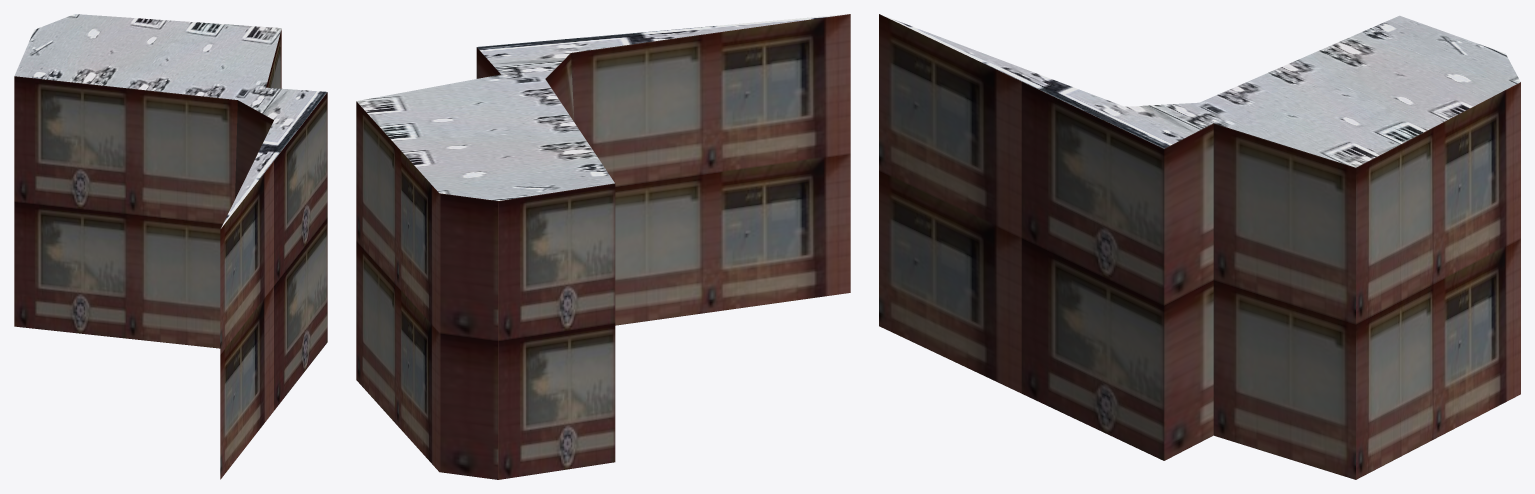
Rendered from ResTex__2165.fbx.
3 views of the same model, side by side, from view 1: azimuth 30°, elevation 25°; view 2: azimuth 150°, elevation 25°; view 3: azimuth 270°, elevation 25° (orthographic). The views are drawn at different scales.
Visible parts, largest first — view 1: CityEngineMaterial_13_m, CityEngineMaterial_4_m; view 2: CityEngineMaterial_13_m, CityEngineMaterial_4_m; view 3: CityEngineMaterial_13_m, CityEngineMaterial_4_m.
Boxes of the visible parts, x1,y1,x2,y2 form: CityEngineMaterial_13_m: [14, 29, 327, 479]; CityEngineMaterial_4_m: [14, 14, 327, 228]; CityEngineMaterial_13_m: [356, 14, 850, 479]; CityEngineMaterial_4_m: [356, 14, 846, 200]; CityEngineMaterial_13_m: [879, 14, 1520, 479]; CityEngineMaterial_4_m: [882, 15, 1520, 167].
Size of the model in its own units: 6.34 by 6 by 11.17.
Materials: 2 (2 with a texture image).
